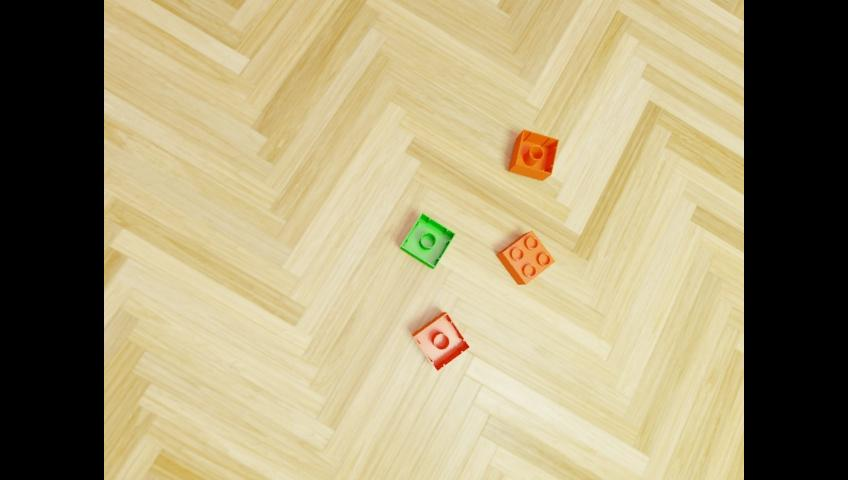2x2_green: (400, 212, 455, 268)
2x2_orange: (411, 311, 470, 372), (496, 230, 554, 284), (508, 128, 558, 180)
